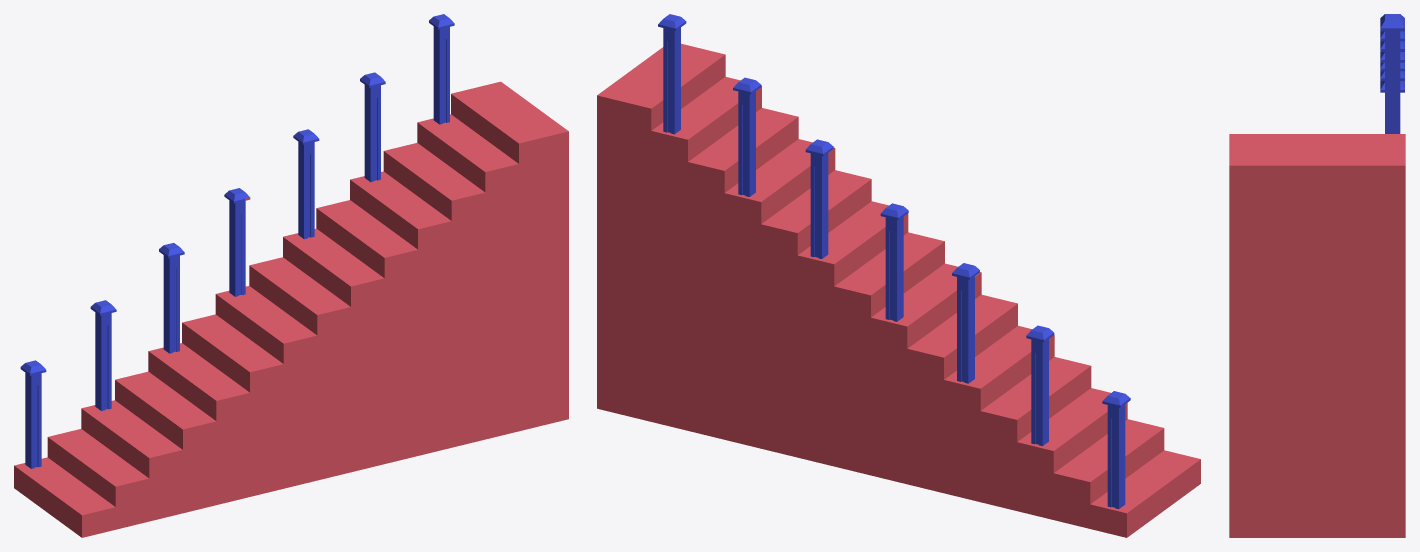
File: Stairs.fbx
3 renders of one model, left to right at view 1: azimuth 30°, elevation 25°; view 2: azimuth 150°, elevation 25°; view 3: azimuth 270°, elevation 25°, orthographic. The views are drawn at different scales.
Visible parts, largest first — view 1: Stairs; view 2: Stairs; view 3: Stairs.
Boxes of the visible parts, x1,y1,x2,y2 form: Stairs: (14,14,568,537); Stairs: (597,14,1200,537); Stairs: (1229,14,1405,537).
Size of the model in its own units: 693 by 505 by 168.
